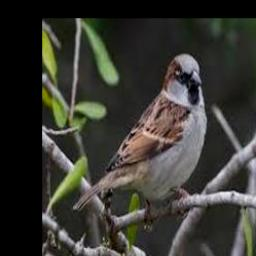Sparrow: (73, 53, 208, 213)
